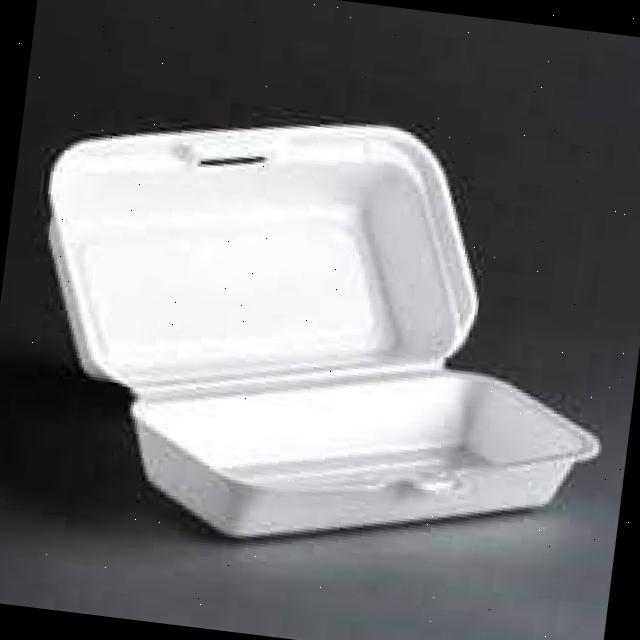styrofoam: (3, 80, 638, 580)
